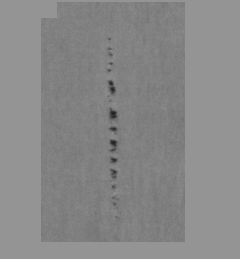oxl: (35, 10, 205, 249)
